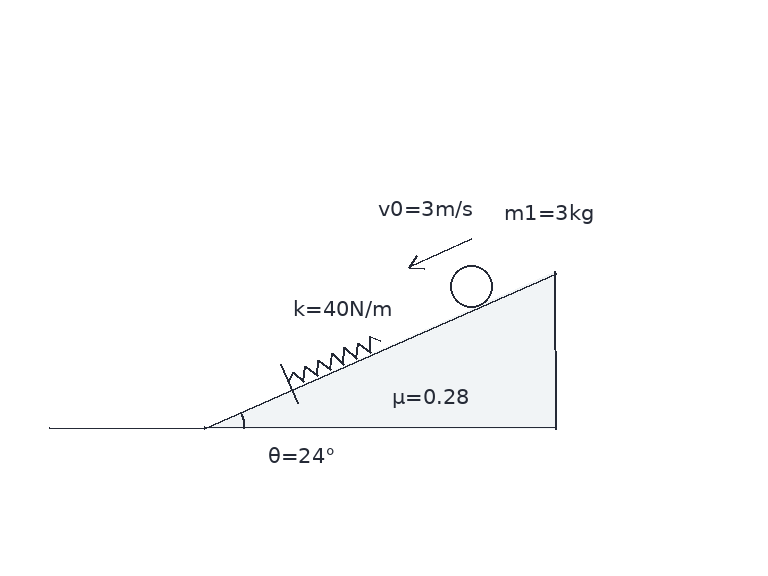ball: (448, 263, 494, 309)
ramp: (202, 269, 558, 430)
spring: (286, 334, 382, 383)
